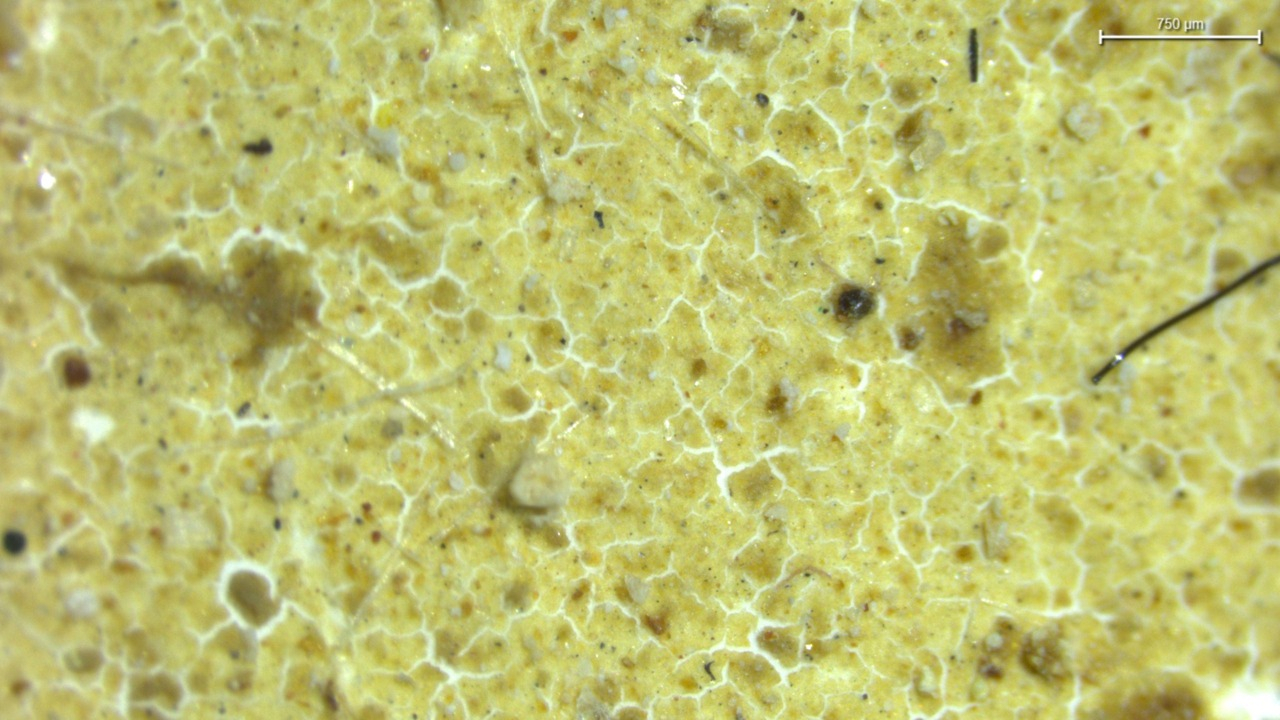microplastic_fragment: (509, 450, 568, 509)
